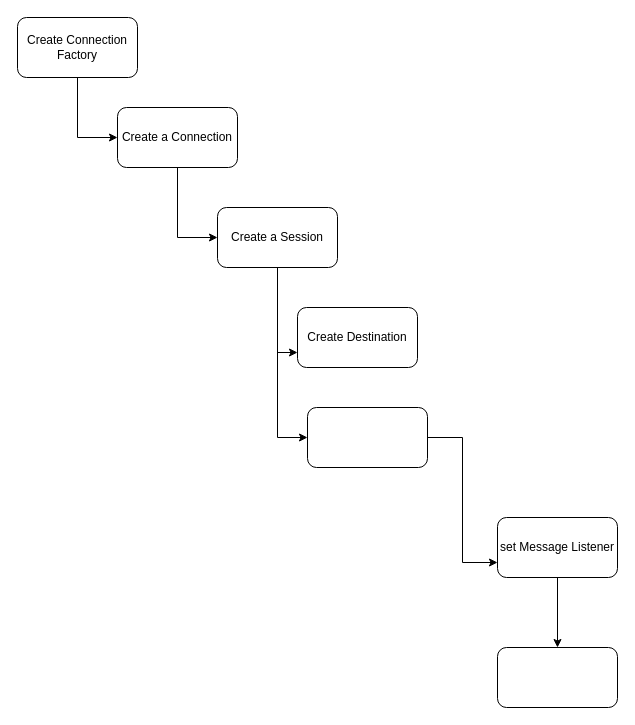
Image size: 635x725. Some labels were removed from this diagram. Each missing label, with the centre of its shape:
"Create Consumer" belongs at pixel 367 437.
"Handle Message" belongs at pixel 557 677.
